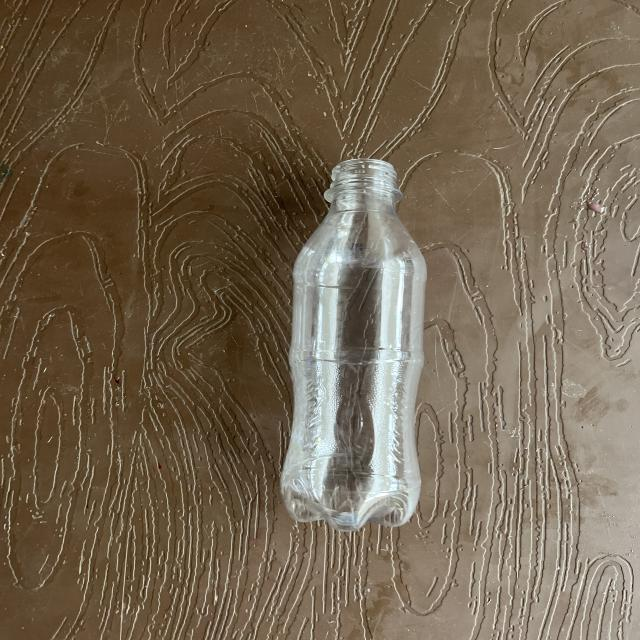PET_ClearBottle: (296, 144, 572, 507)
